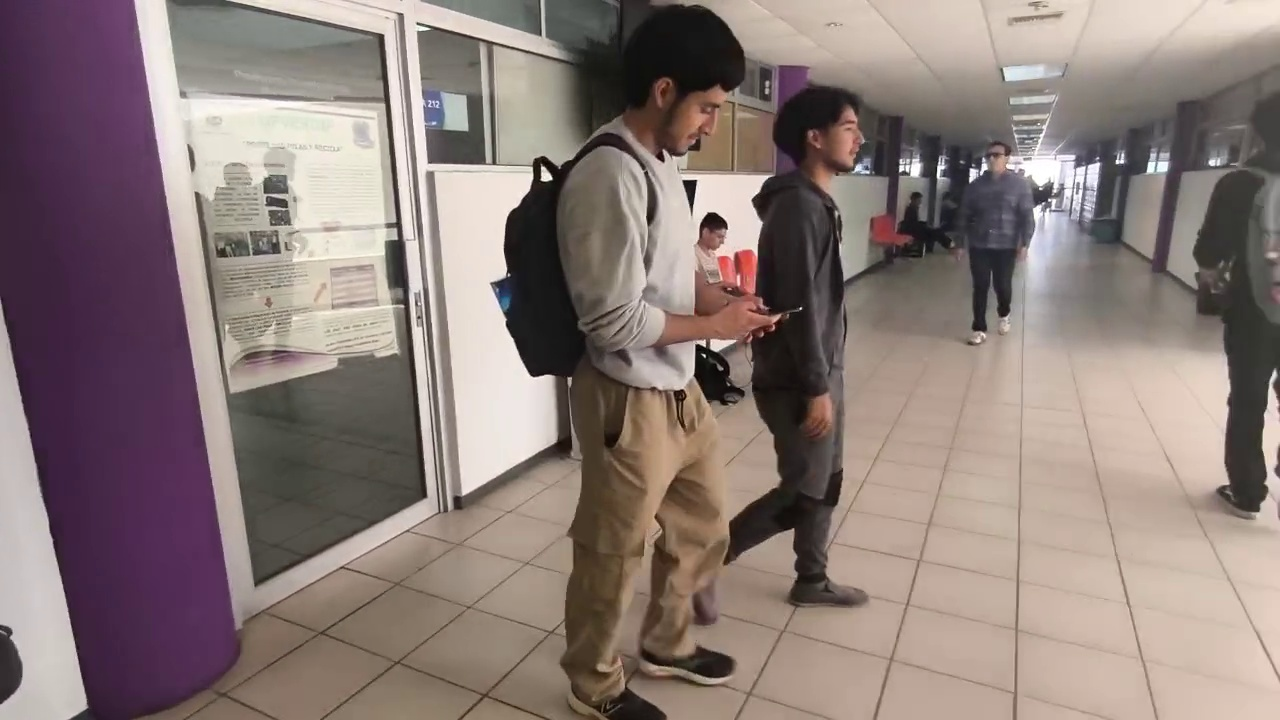mixto2: (755, 299, 810, 325)
